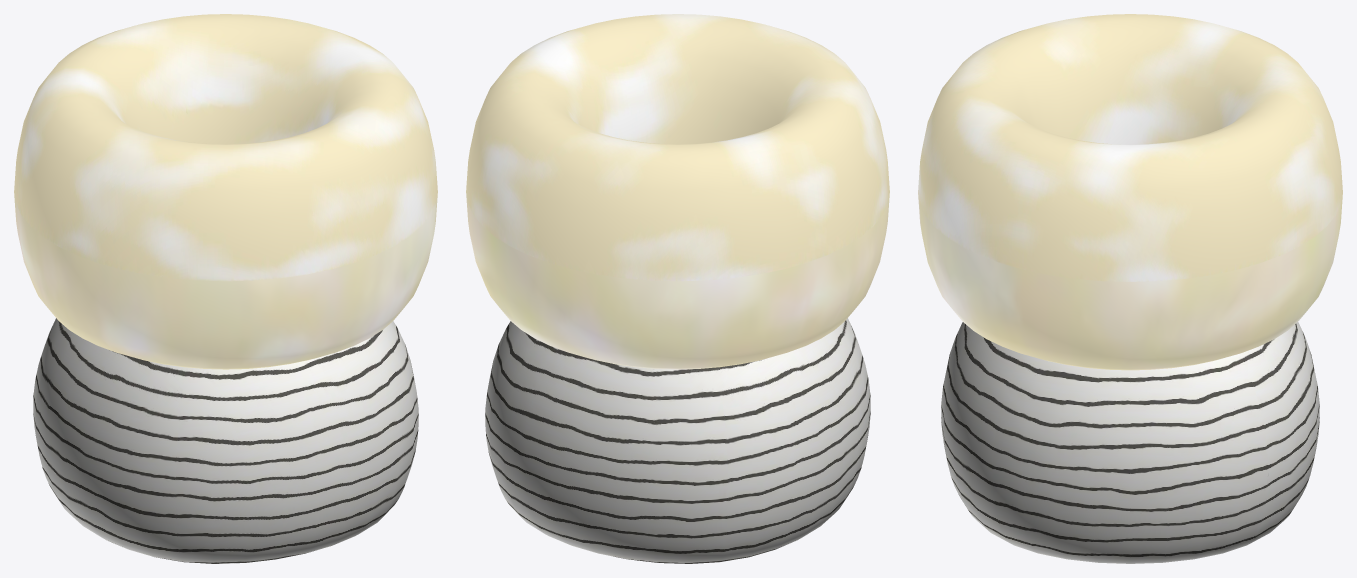
The model's file is lamp2-transformed.glb.
3 renders of one model, left to right at view 1: azimuth 30°, elevation 25°; view 2: azimuth 150°, elevation 25°; view 3: azimuth 270°, elevation 25°, orthographic.
Parts seen in each view (by area): view 1: Torus, Cube; view 2: Torus, Cube; view 3: Torus, Cube.
Boxes of the visible parts, x1,y1,x2,y2 form: Torus: [14, 14, 437, 369]; Cube: [33, 318, 418, 563]; Torus: [466, 14, 889, 369]; Cube: [485, 318, 870, 563]; Torus: [918, 14, 1342, 370]; Cube: [941, 322, 1319, 563].
Size of the model in its own units: 1.79 by 1.93 by 1.79.
2 materials, 2 textured.
